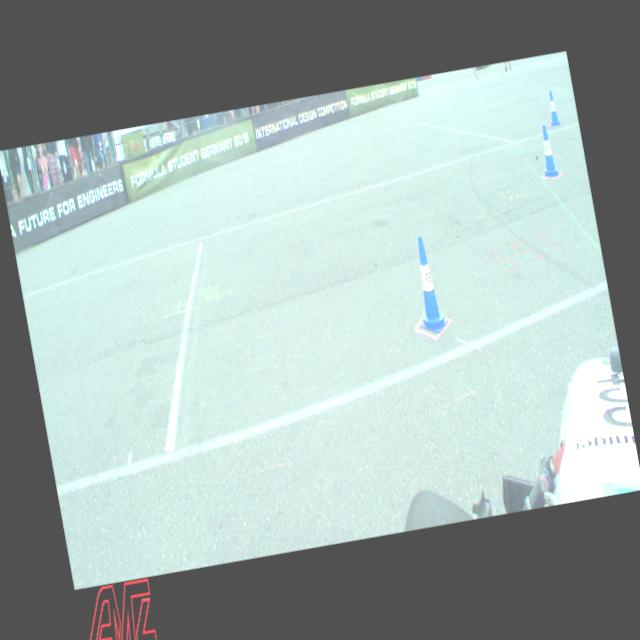blue_cone: (404, 234, 450, 335), (536, 124, 558, 177), (544, 90, 560, 125)
